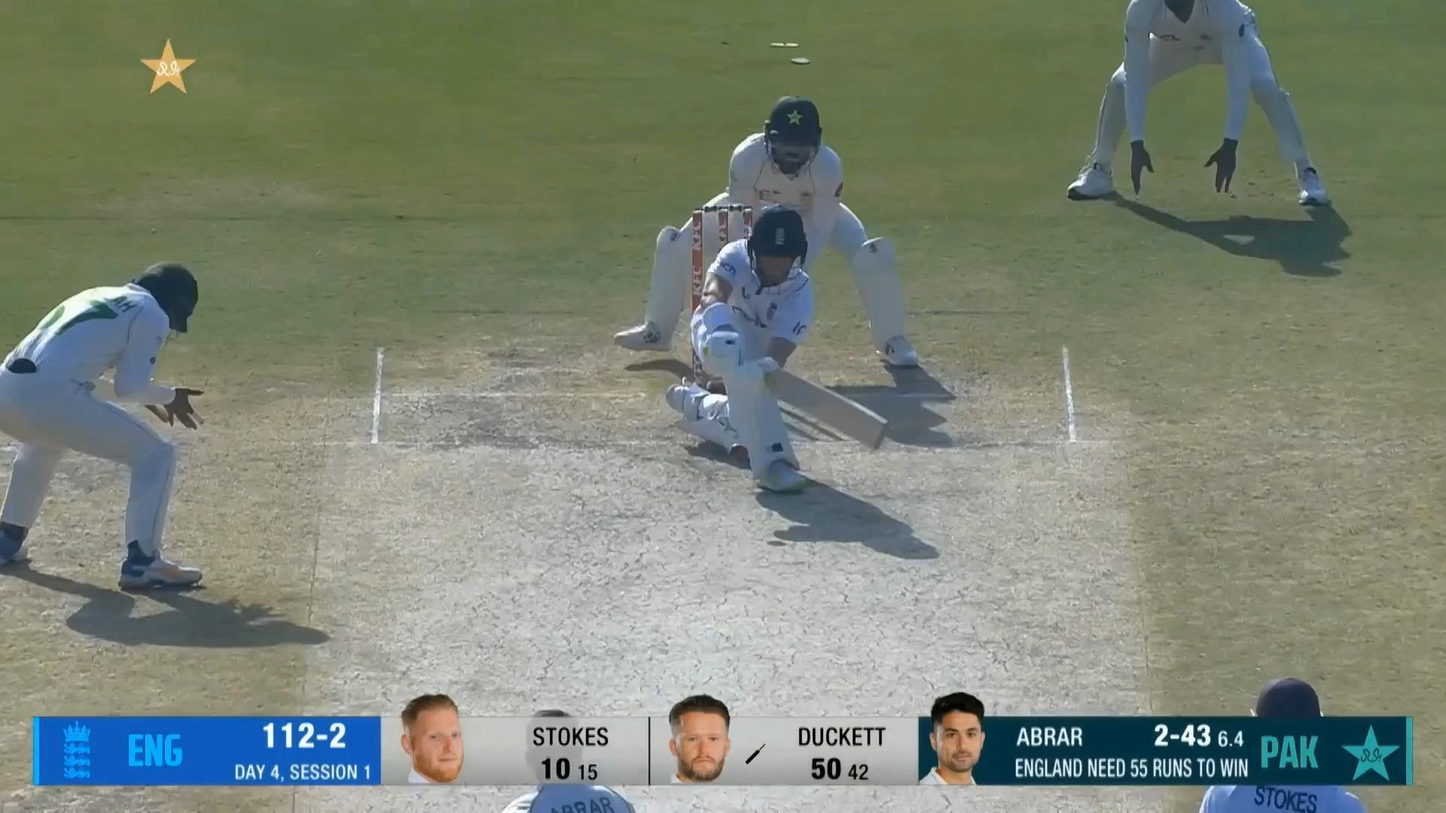BM 1: (666, 204, 888, 493)
BO: (495, 701, 641, 813)
